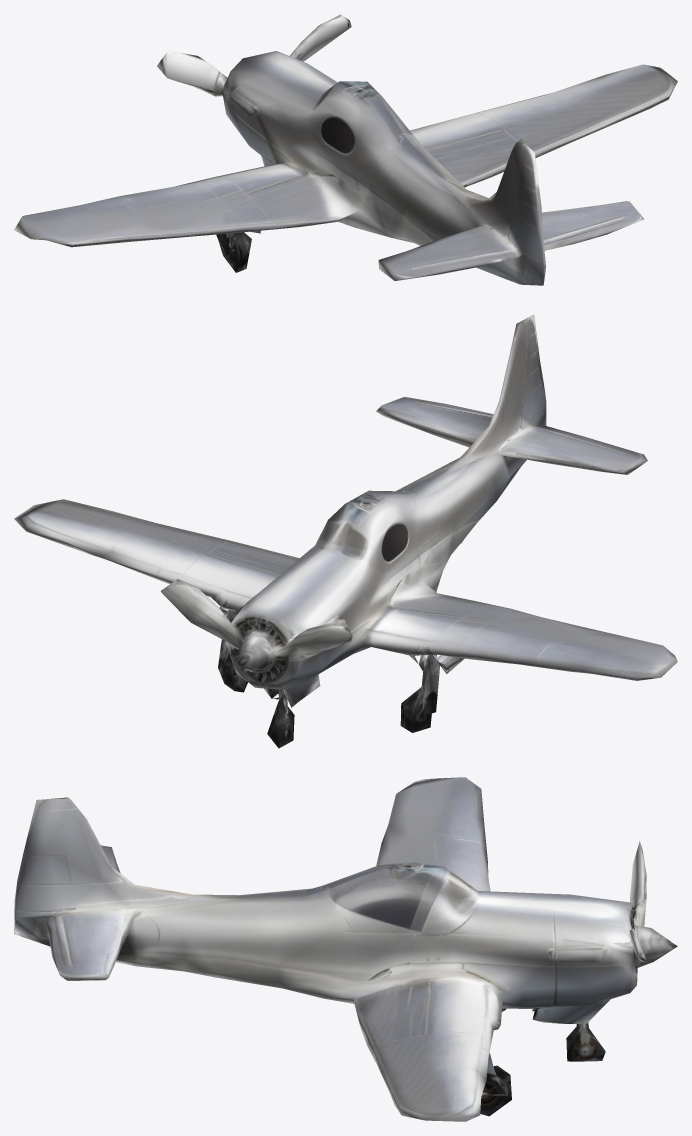
The picture shows the model from 3 angles, top to bottom: view 1: azimuth 30°, elevation 25°; view 2: azimuth 150°, elevation 25°; view 3: azimuth 270°, elevation 25°; orthographic projection. The views are drawn at different scales.
Visible parts, largest first — view 1: Mesh1.0; view 2: Mesh1.0; view 3: Mesh1.0.
Part boxes in pixels (x1,y1,x2,y2): Mesh1.0: (14,14,677,285); Mesh1.0: (14,314,677,748); Mesh1.0: (14,777,677,1121).
Size of the model in its own units: 200 by 73.49 by 164.
1 material, 1 textured.
